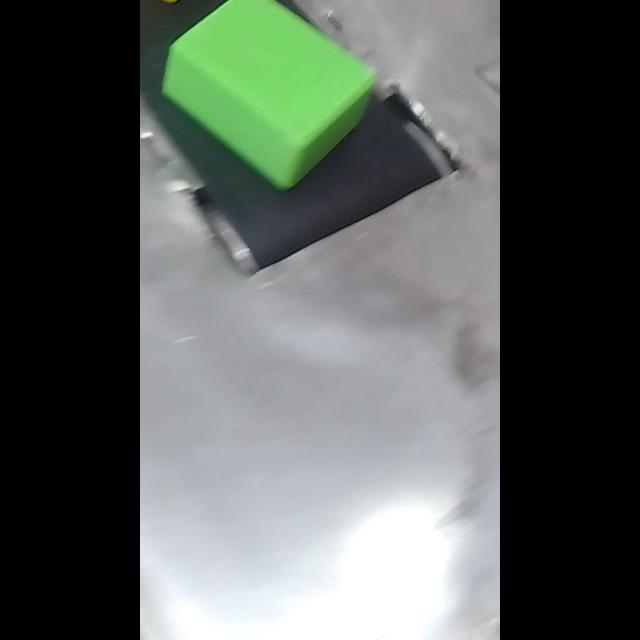greenBox: (156, 0, 387, 210)
yellowBox: (140, 0, 242, 16)
